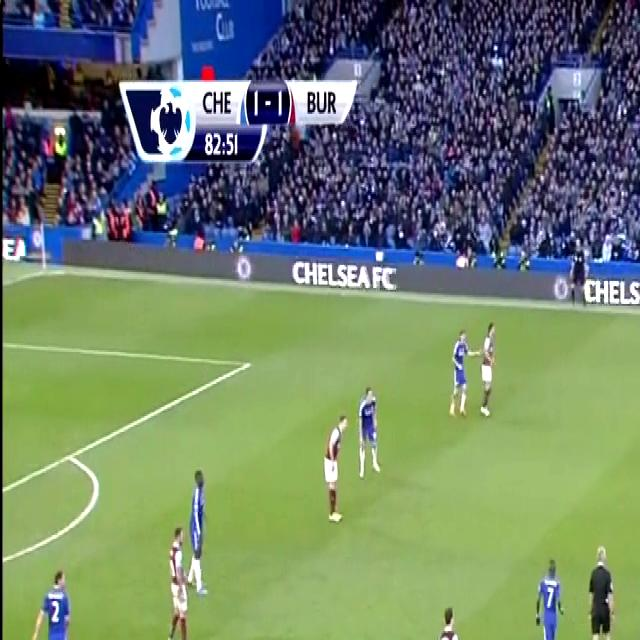referee: (582, 528, 621, 640), (559, 229, 590, 307)
soccer-player: (311, 401, 350, 532), (178, 462, 214, 601), (527, 542, 573, 640), (157, 519, 194, 640), (353, 371, 388, 484), (27, 563, 78, 640), (442, 318, 473, 426), (476, 312, 504, 429), (426, 592, 474, 640)
